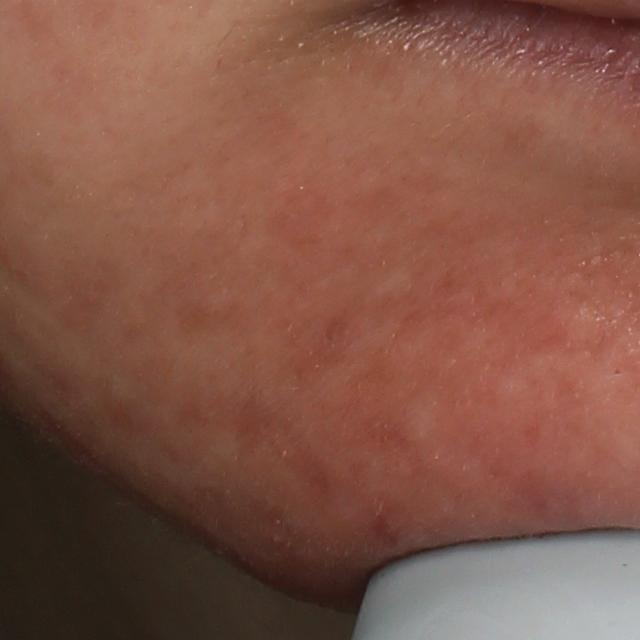hypertrophic_scar: (389, 396, 429, 460)
